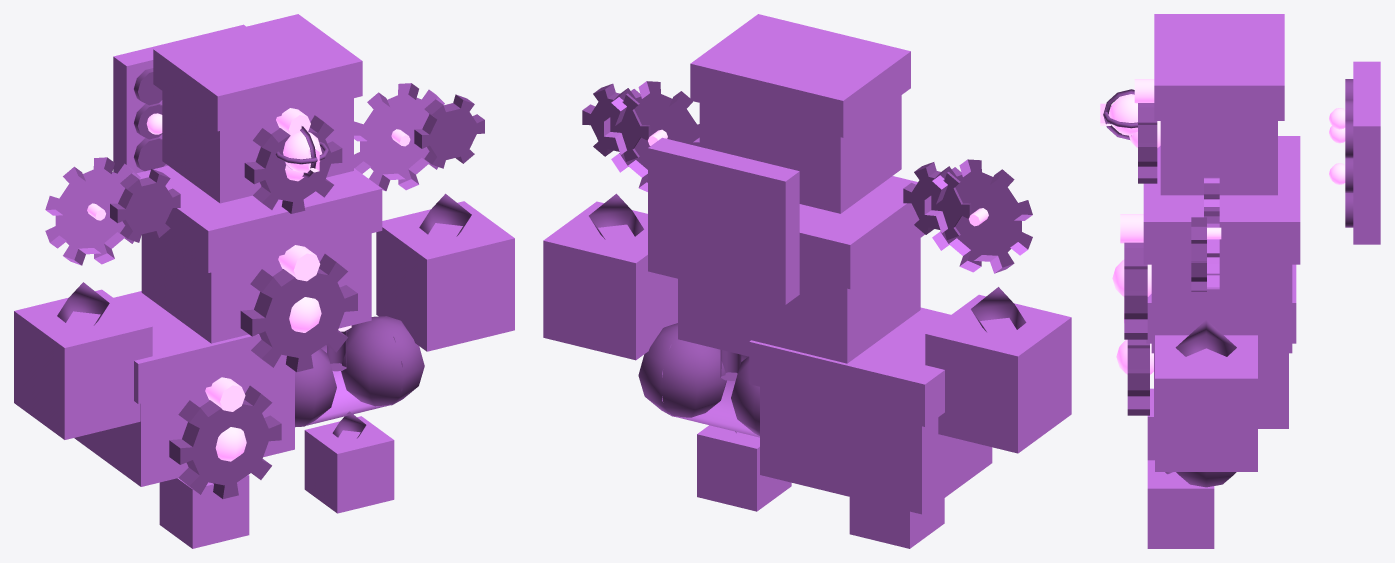
Rendered from golem_136.glb.
The picture shows the model from 3 angles, left to right: view 1: azimuth 30°, elevation 25°; view 2: azimuth 150°, elevation 25°; view 3: azimuth 270°, elevation 25°; orthographic projection. The views are drawn at different scales.
Visible parts, largest first — view 1: Body, Detail, Glow; view 2: Body, Detail; view 3: Body, Detail, Glow.
Boxes of the visible parts, box(x1,y1,x2,y2) form: Body: box(14, 14, 514, 548); Detail: box(57, 68, 484, 498); Glow: box(87, 108, 410, 461); Body: box(543, 14, 1071, 548); Detail: box(582, 83, 1026, 435); Body: box(1131, 14, 1380, 548); Detail: box(1103, 79, 1353, 487); Glow: box(1100, 79, 1345, 374).
Bounding box in the file's own units: 1.58 × 1.48 × 0.8396.
